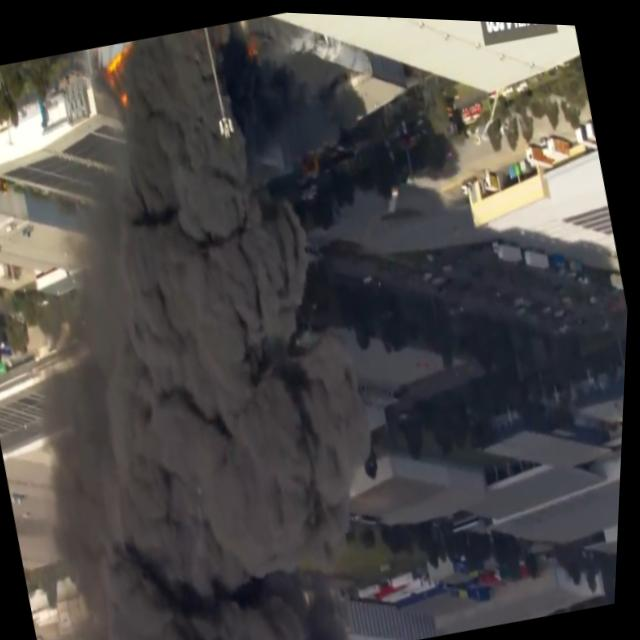Fire: (96, 43, 145, 113)
